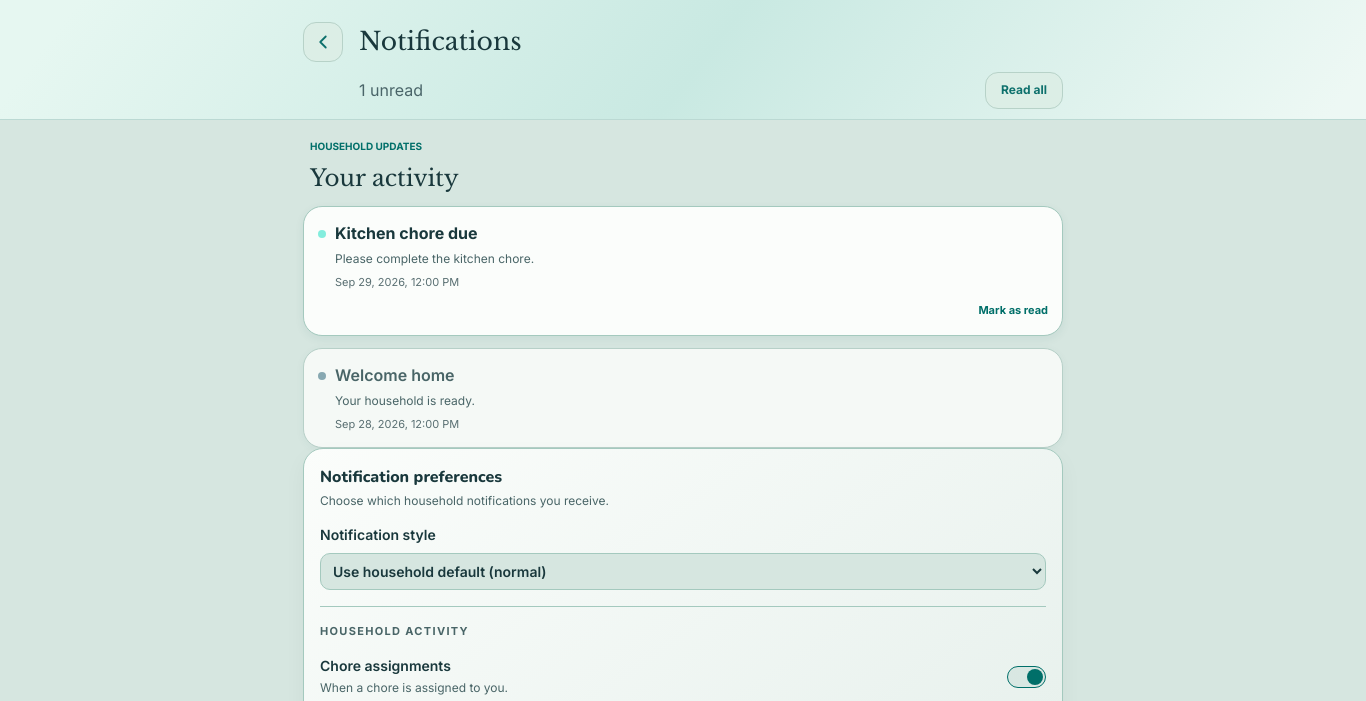
notifications screen › renders read and unread states, marks a notification read and saves preferences
Expected: the text "1 unread" is shown, [359,78,423,102]
Expected: the text "CHORES" is not shown
Click the button with aria-label "Mark Kitchen chore due as read".
click(1013, 310)  # box [978,302,1048,318]
(page scrolled)
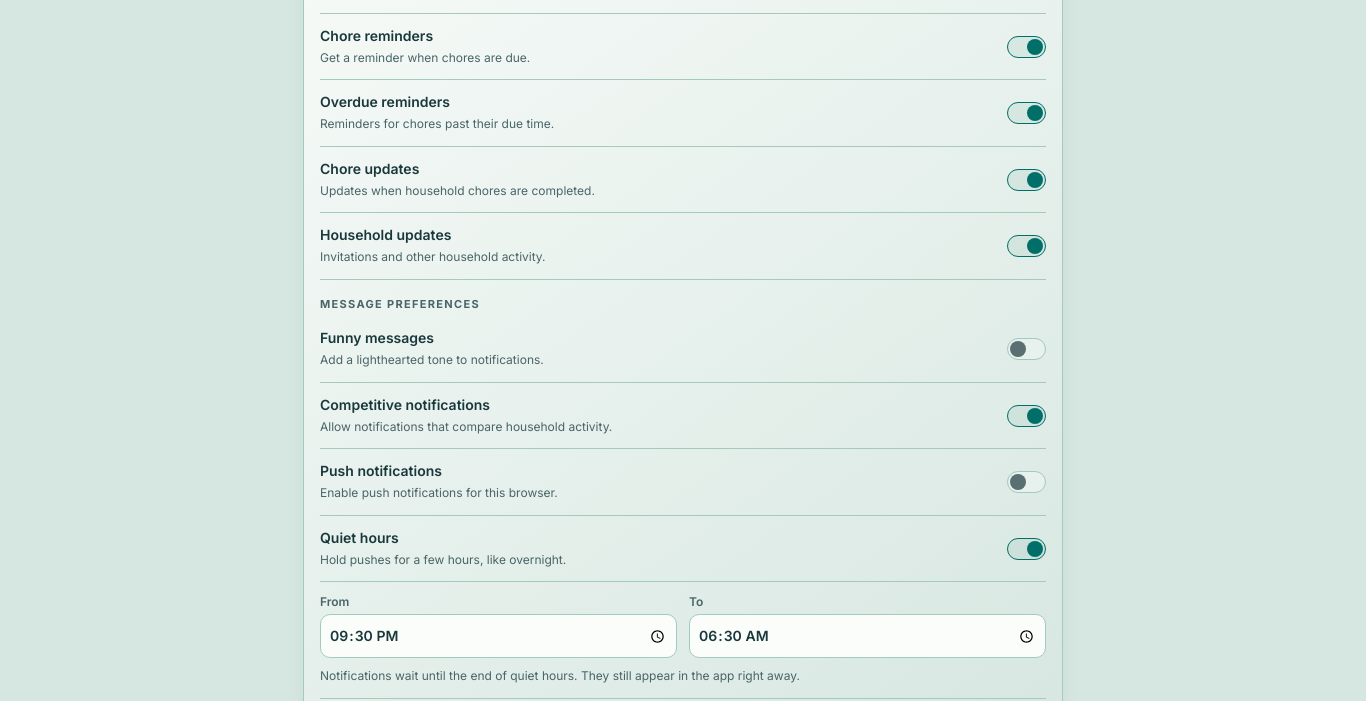
Click the checkbox labelled "Funny messages".
click(1026, 349)  # box [1007,338,1046,360]
(page scrolled)
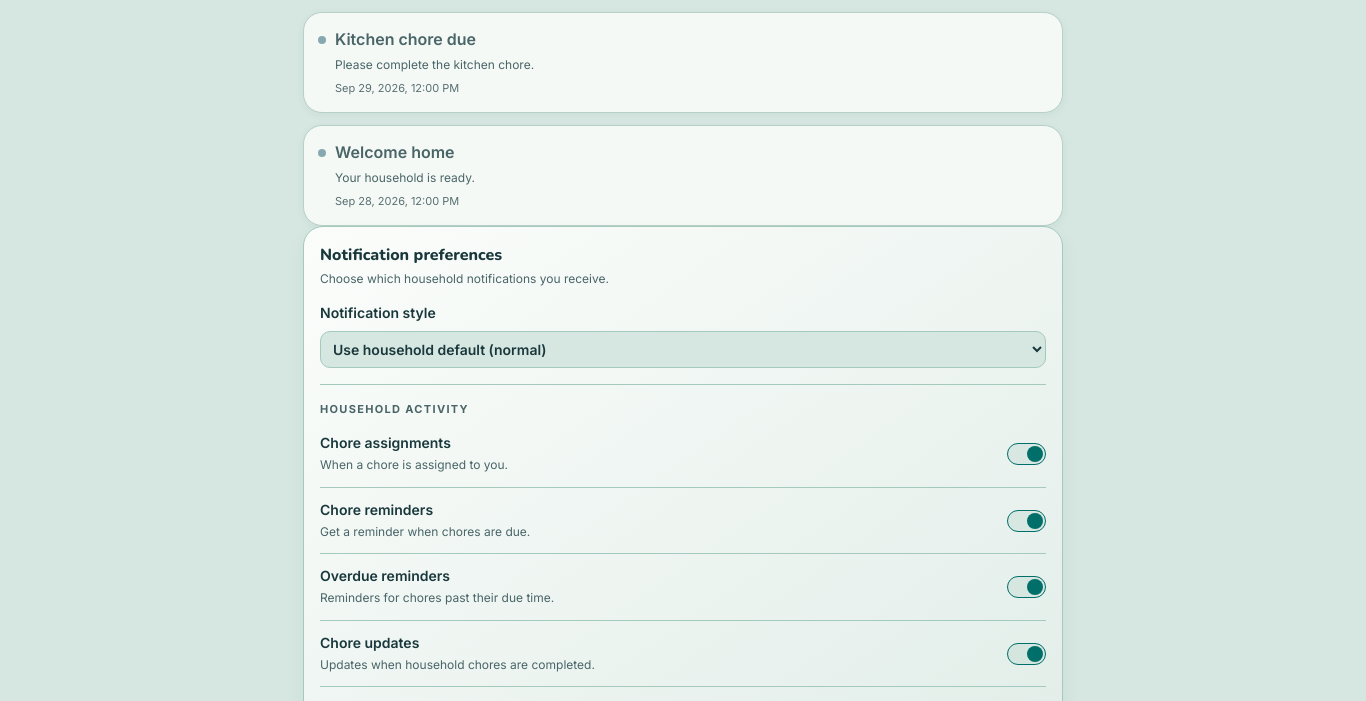
Select "Motivational" in the dropdown labelled "Notification style" at point(683, 349), box [320,331,1046,368]
(page scrolled)
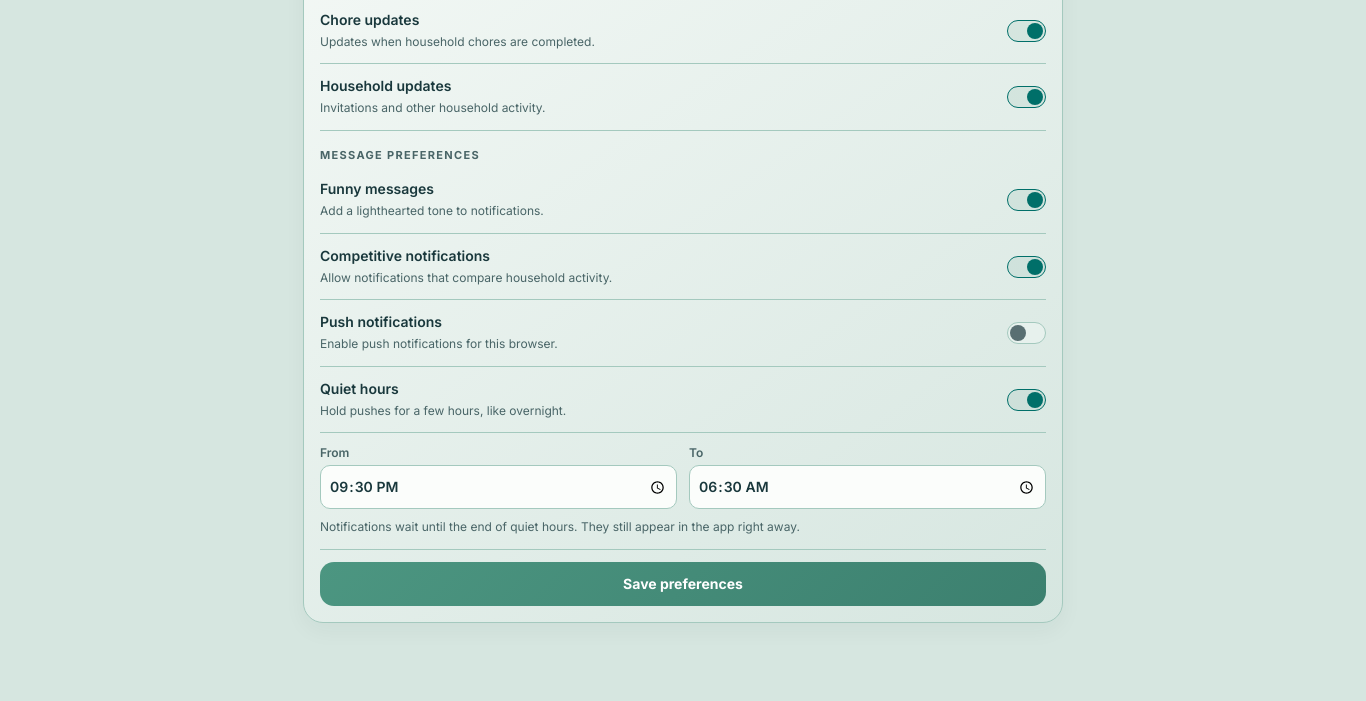
Click the button "Save preferences".
click(683, 584)  # box [320,562,1046,606]
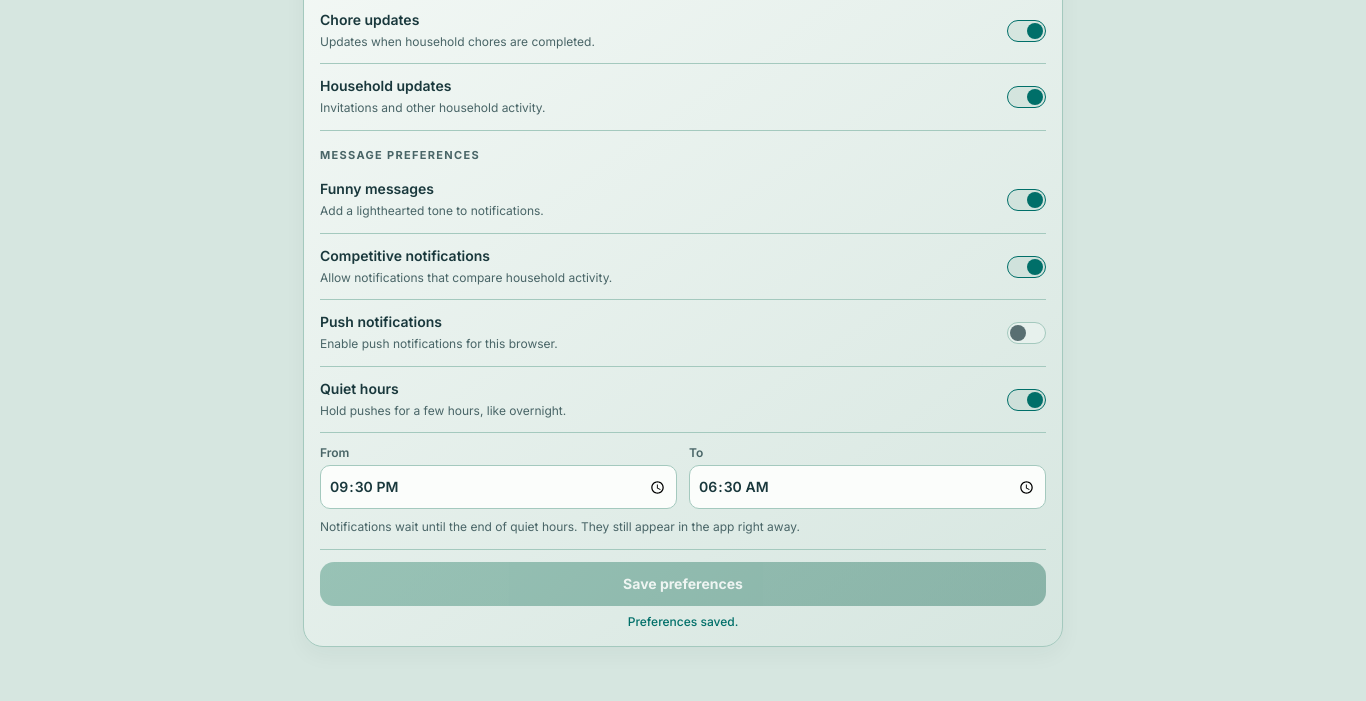
Expected: the checkbox labelled "Push notifications" is not checked, [1007,322,1046,344]
Expected: the message reads "Preferences saved.", [628,614,738,629]
